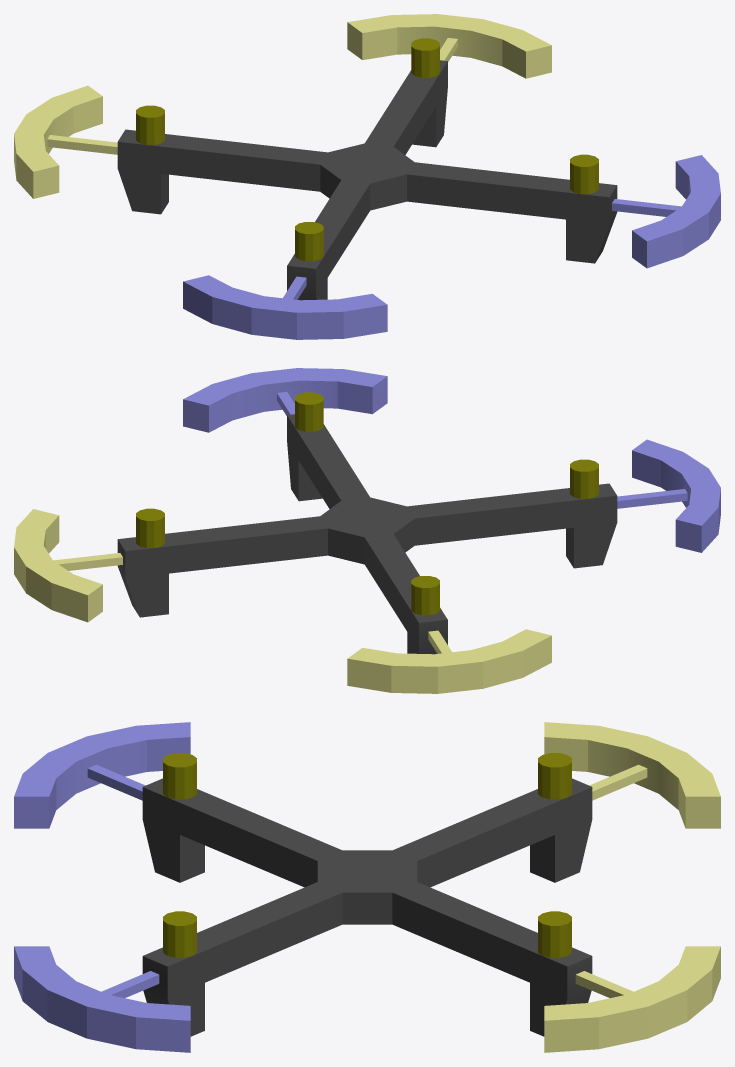
File: quadFrame.fbx
3 renders of one model, top to bottom at view 1: azimuth 30°, elevation 25°; view 2: azimuth 150°, elevation 25°; view 3: azimuth 270°, elevation 25°, orthographic. The views are drawn at different scales.
Parts seen in each view (by area): view 1: polySurface2, pPipe3, pPipe2, pPipe1, pPipe4, polySurface4, polySurface3, polySurface6, polySurface5; view 2: polySurface2, pPipe4, pPipe1, pPipe2, pPipe3, polySurface5, polySurface3, polySurface6, polySurface4; view 3: polySurface2, pPipe1, pPipe2, pPipe3, pPipe4, polySurface3, polySurface4, polySurface5, polySurface6.
Part boxes in pixels (bbox=[...]): polySurface2: bbox=[117, 60, 617, 300]; pPipe3: bbox=[183, 275, 387, 339]; pPipe2: bbox=[347, 14, 551, 78]; pPipe1: bbox=[612, 155, 720, 268]; pPipe4: bbox=[14, 85, 117, 198]; polySurface4: bbox=[411, 38, 439, 77]; polySurface3: bbox=[295, 222, 323, 261]; polySurface6: bbox=[136, 105, 164, 144]; polySurface5: bbox=[570, 154, 598, 193]; polySurface2: bbox=[117, 414, 617, 654]; pPipe4: bbox=[347, 629, 551, 693]; pPipe1: bbox=[183, 368, 387, 432]; pPipe2: bbox=[14, 509, 122, 622]; pPipe3: bbox=[617, 439, 720, 552]; polySurface5: bbox=[295, 392, 323, 431]; polySurface3: bbox=[570, 459, 598, 498]; polySurface6: bbox=[411, 576, 439, 615]; polySurface4: bbox=[136, 508, 164, 547]; polySurface2: bbox=[142, 778, 592, 1036]; pPipe1: bbox=[14, 946, 190, 1052]; pPipe2: bbox=[544, 946, 720, 1052]; pPipe3: bbox=[14, 722, 190, 828]; pPipe4: bbox=[544, 722, 720, 828]; polySurface3: bbox=[163, 753, 196, 799]; polySurface4: bbox=[538, 911, 571, 957]; polySurface5: bbox=[163, 911, 196, 957]; polySurface6: bbox=[538, 753, 571, 799].
Bounding box in the file's own units: 40 × 7 × 40.
